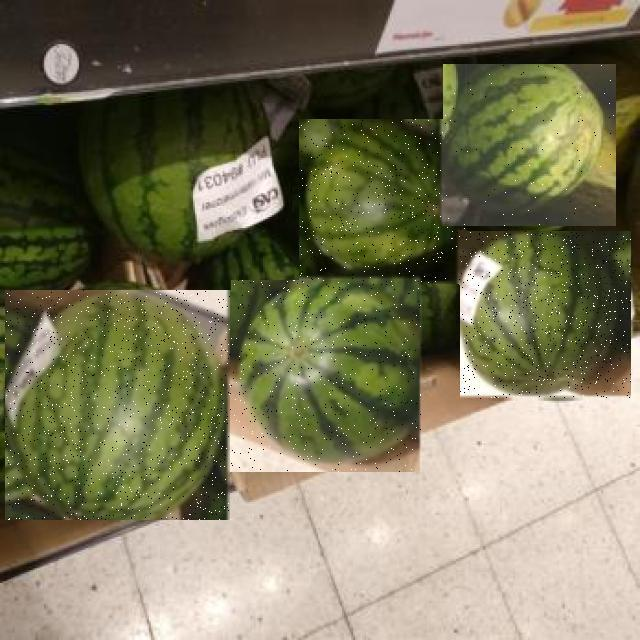Watermelon: (6, 291, 232, 521), (232, 280, 424, 472), (460, 232, 631, 400), (443, 65, 616, 227), (300, 120, 468, 286)
